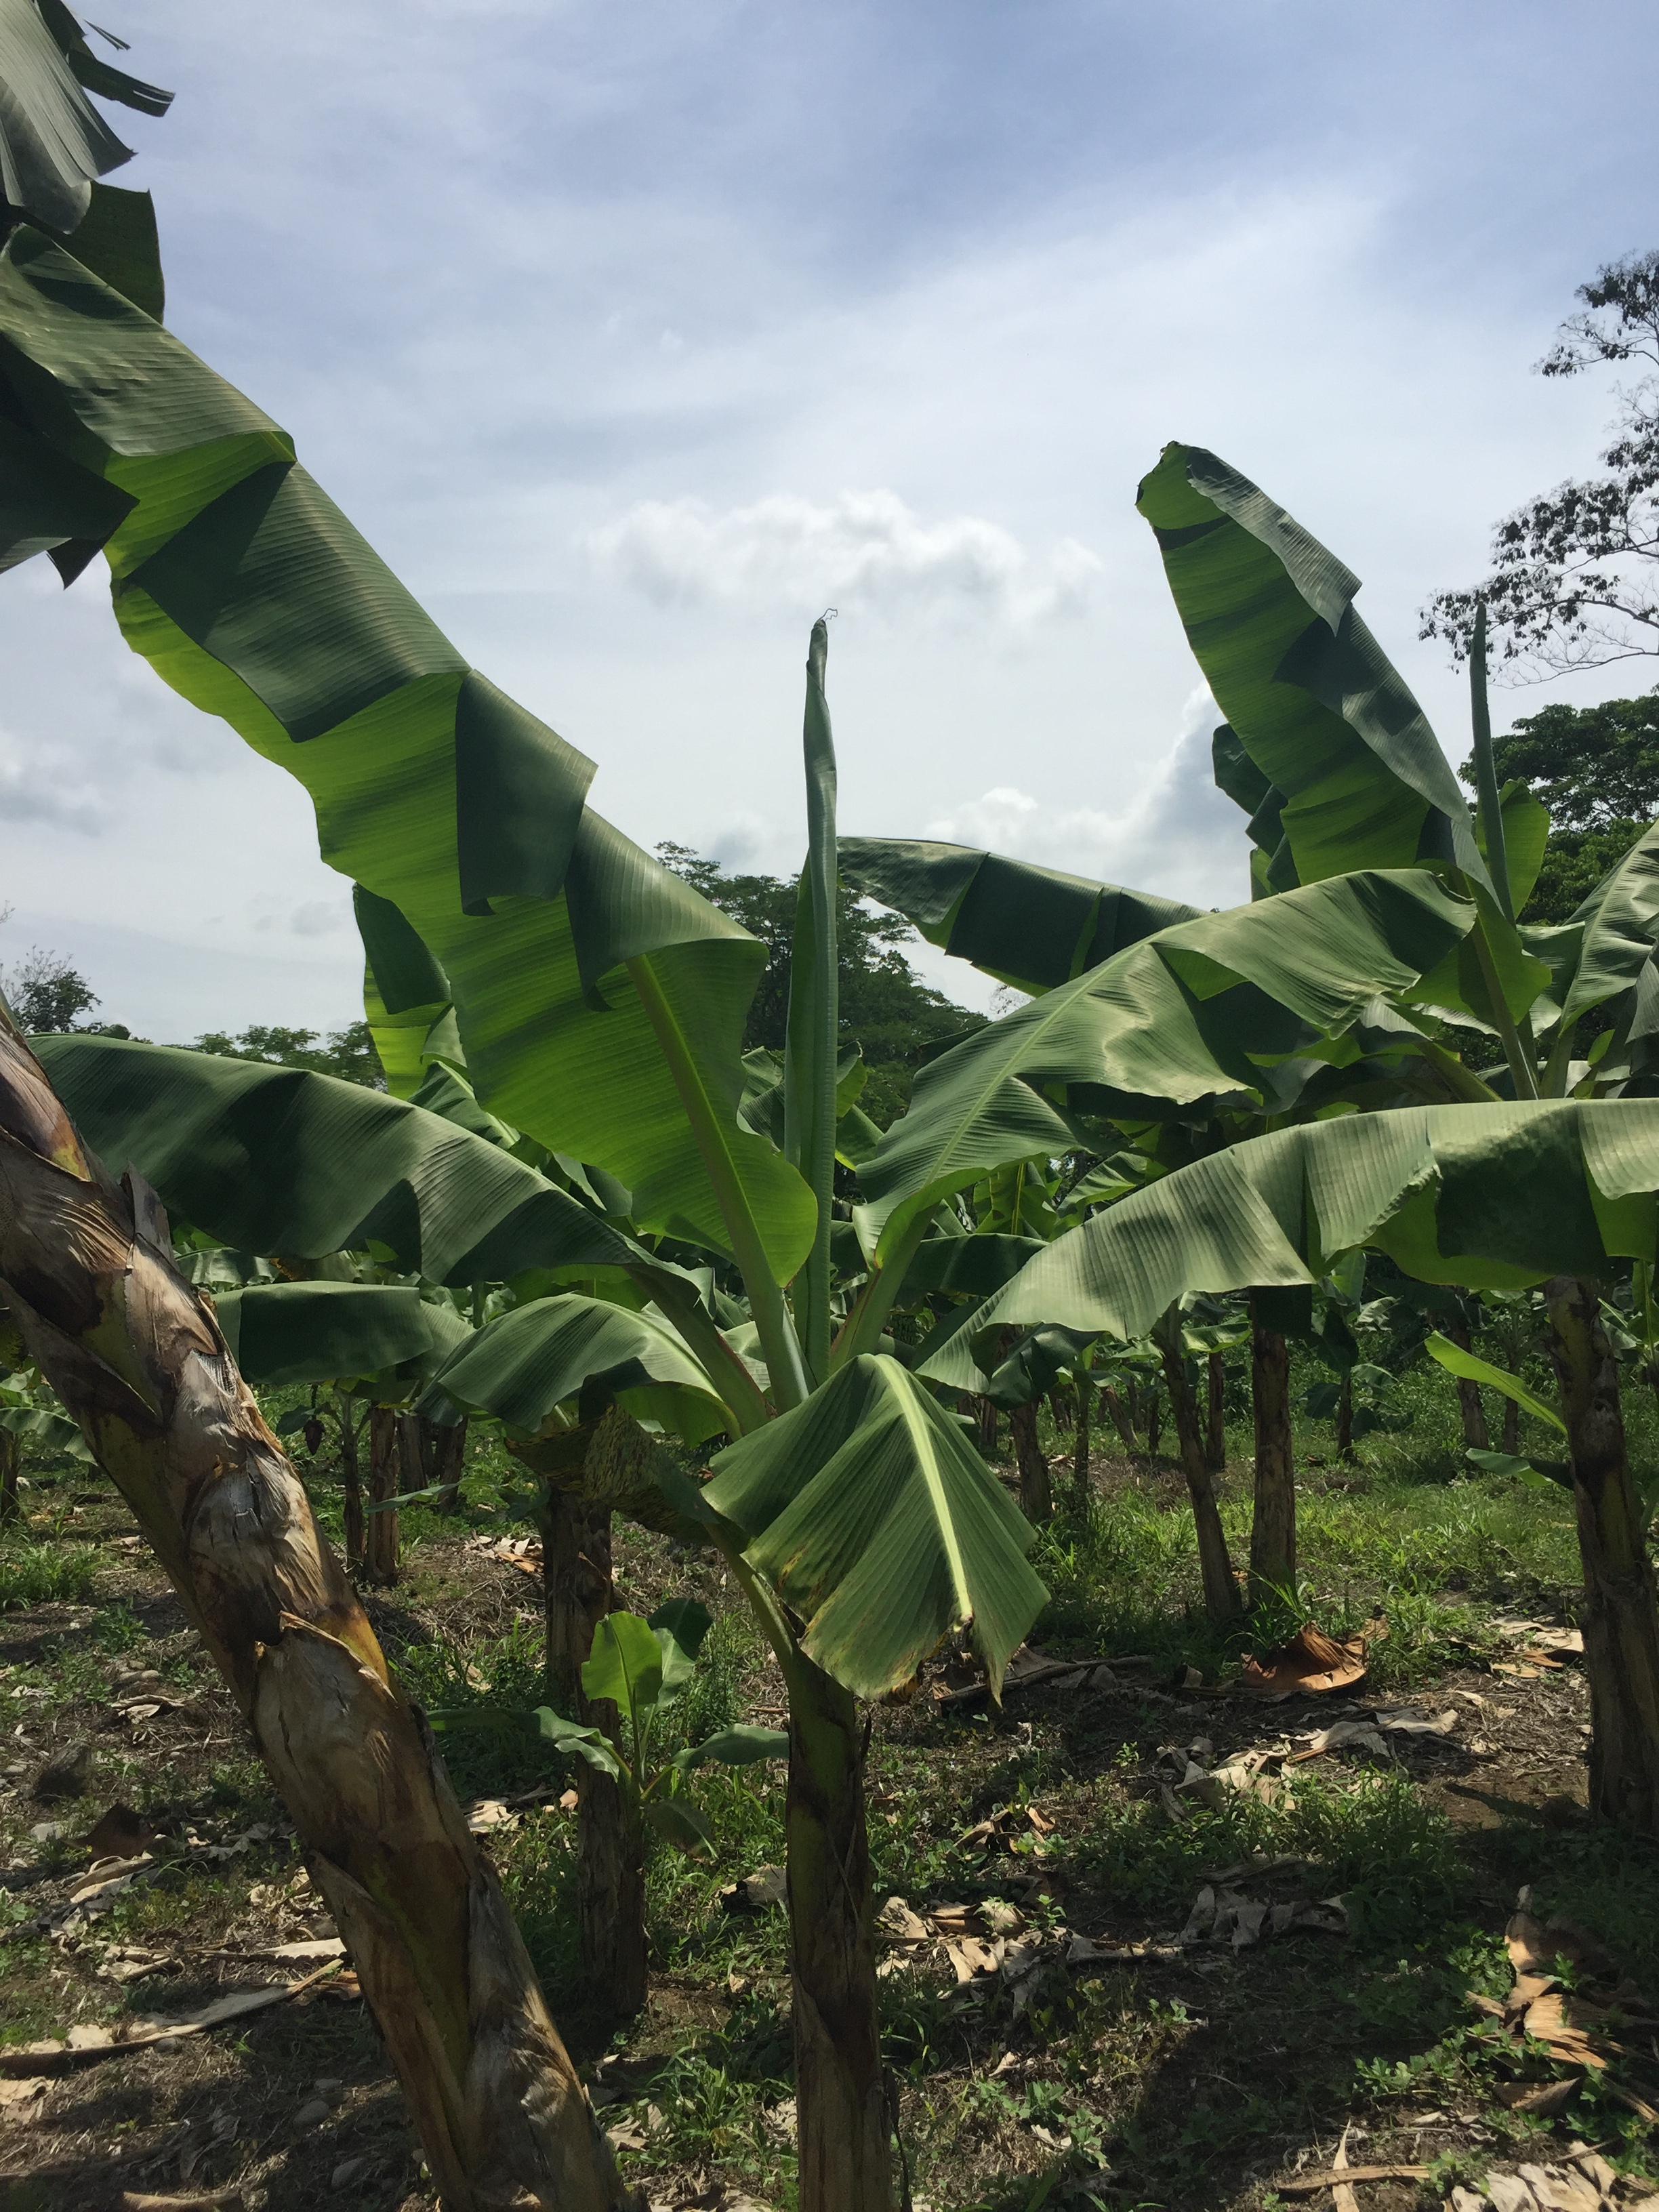candleleafs: (784, 608, 838, 1350)
